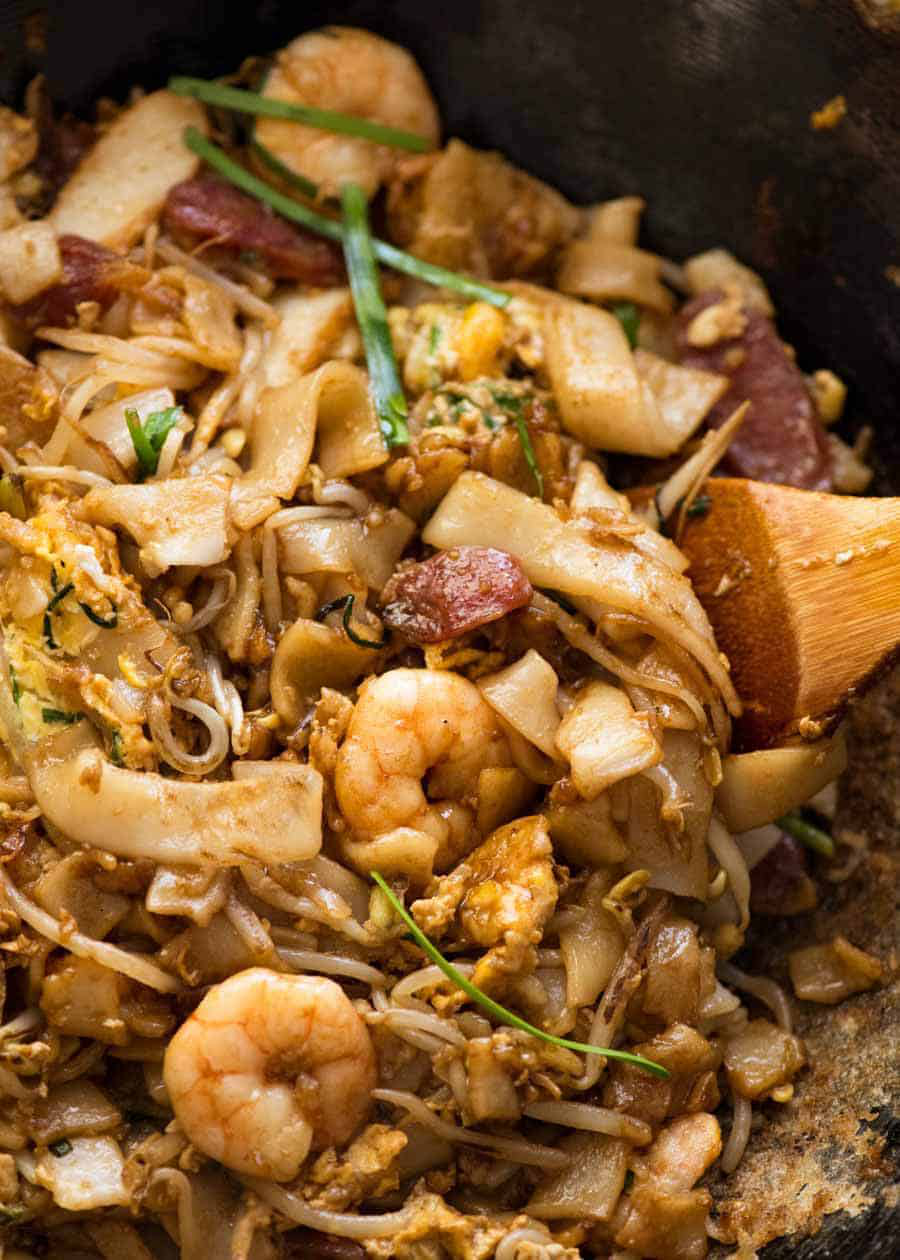Char Kway Teow: (0, 103, 802, 1178)
